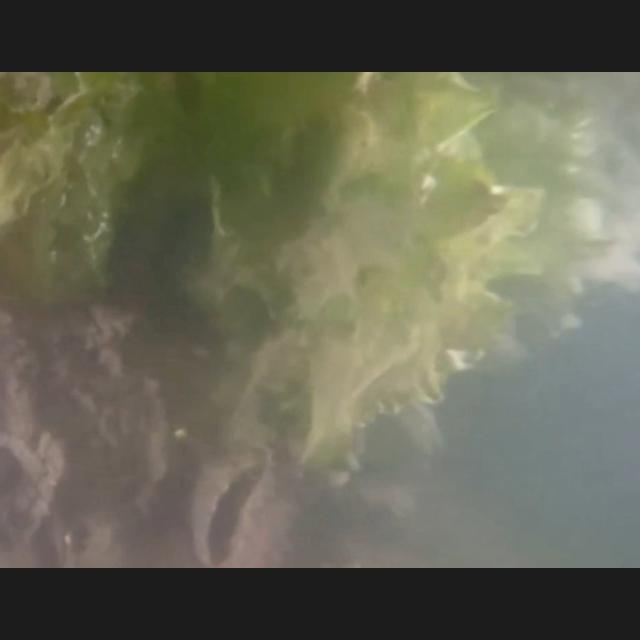Oyster-Open: (187, 442, 275, 568)
